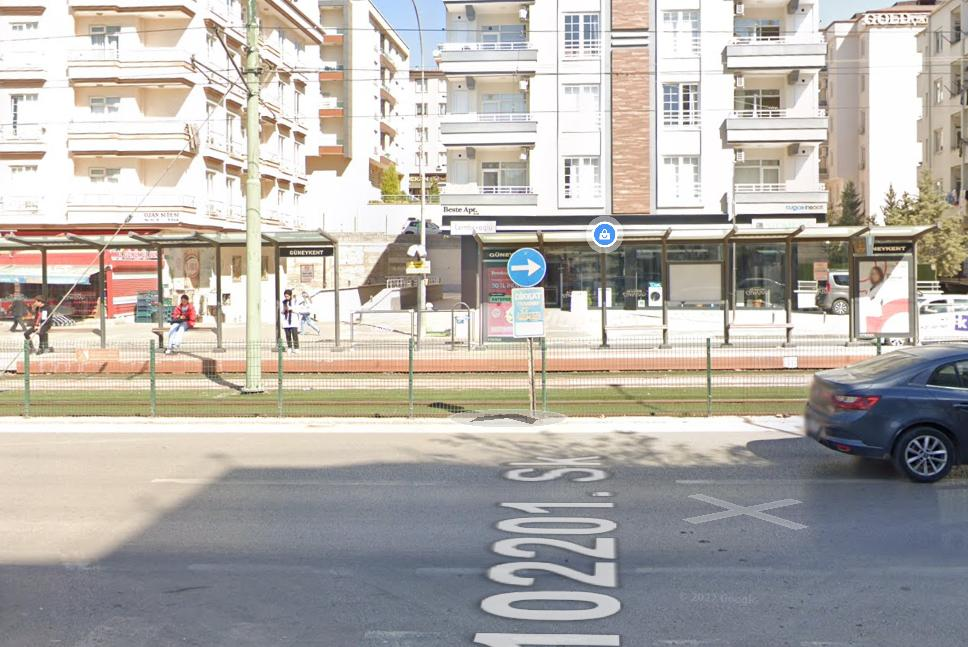turnright: (510, 248, 546, 287)
